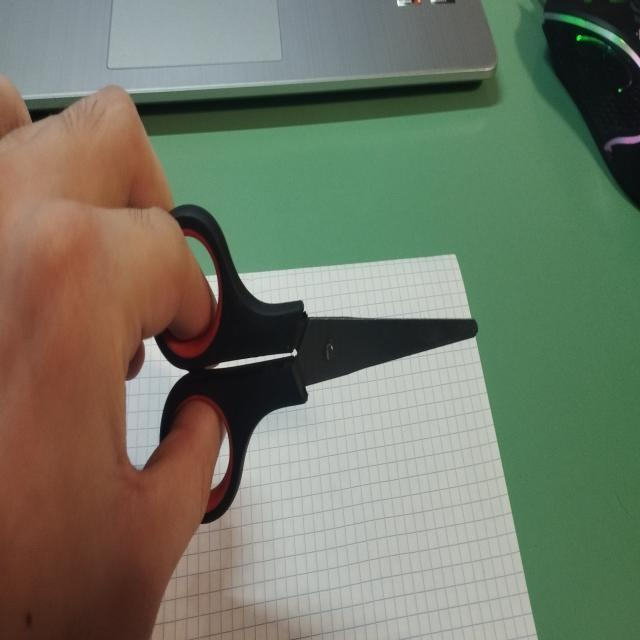tesoura: (149, 194, 481, 529)
